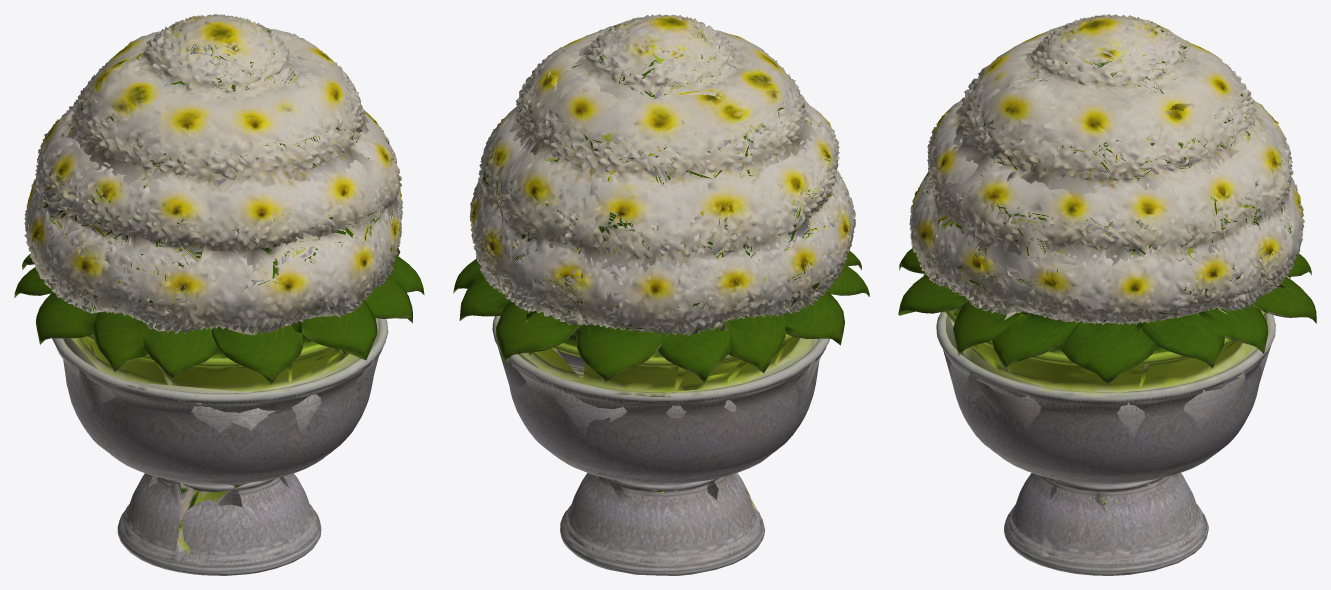
File: w3chrys.glb
The picture shows the model from 3 angles, left to right: view 1: azimuth 30°, elevation 25°; view 2: azimuth 150°, elevation 25°; view 3: azimuth 270°, elevation 25°; orthographic projection.
Parts seen in each view (by area): view 1: w3chrys_near, w3chrys_far; view 2: w3chrys_near, w3chrys_far; view 3: w3chrys_near, w3chrys_far.
Boxes of the visible parts, bbox=[...] form: w3chrys_near: bbox=[14, 14, 424, 575]; w3chrys_far: bbox=[15, 19, 401, 562]; w3chrys_near: bbox=[453, 14, 869, 575]; w3chrys_far: bbox=[470, 22, 853, 555]; w3chrys_near: bbox=[898, 14, 1316, 575]; w3chrys_far: bbox=[899, 15, 1302, 556].
Size of the model in its own units: 0.3522 by 0.48 by 0.3569.
1 material, 1 textured.
